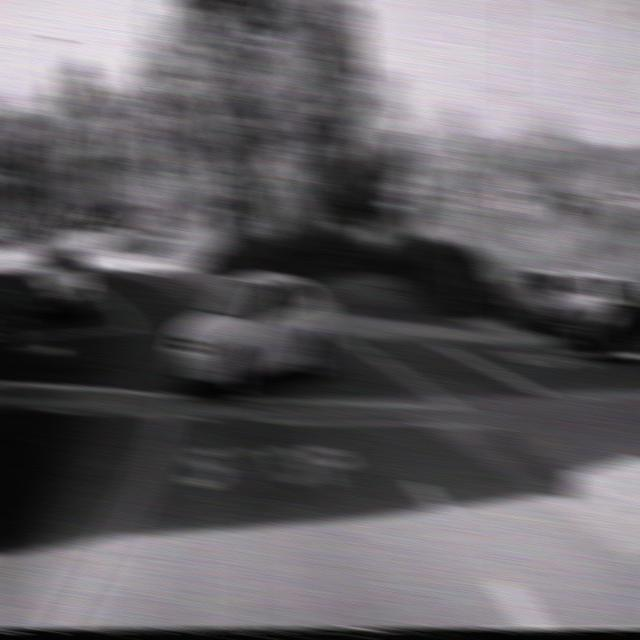pedestrianCrossing: (27, 192, 52, 220)
